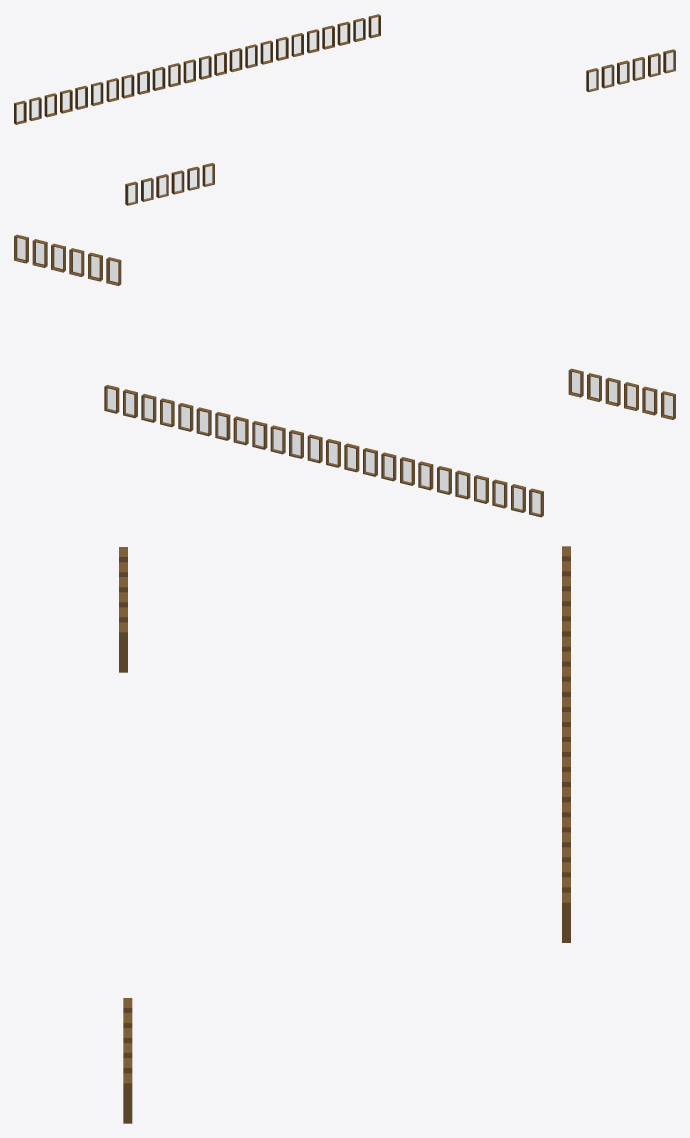
The model's file is insaat_revit_test_erisim.ifc.ifc.ifc_91.5 Kantin_IfcWindow.dae.
3 views of the same model, one above another, from view 1: azimuth 30°, elevation 25°; view 2: azimuth 150°, elevation 25°; view 3: azimuth 270°, elevation 25° (orthographic). The views are drawn at different scales.
Parts seen in each view (by area): view 1: 0nBXQoekD4jAcV3TBdMS78, 0nBXQoekD4jAcV3TBdMS23, 3VCE1vuc5BzQG99Zhek3yZ, 3VCE1vuc5BzQG99Zhek3ya, 3VCE1vuc5BzQG99Zhek3yw, 3VCE1vuc5BzQG99Zhek3yc; view 2: 3VCE1vuc5BzQG99Zhek3yb; view 3: no part large enough to name.
Boxes of the visible parts, <box> form: 0nBXQoekD4jAcV3TBdMS78: <box>601,64,614,88</box>; 0nBXQoekD4jAcV3TBdMS23: <box>171,170,184,194</box>; 3VCE1vuc5BzQG99Zhek3yZ: <box>229,48,242,72</box>; 3VCE1vuc5BzQG99Zhek3ya: <box>121,74,134,98</box>; 3VCE1vuc5BzQG99Zhek3yw: <box>337,21,350,45</box>; 3VCE1vuc5BzQG99Zhek3yc: <box>152,67,165,90</box>; 3VCE1vuc5BzQG99Zhek3yb: <box>381,452,396,481</box>.
Bounding box in the file's own units: 42.79 × 15.23 × 1.5.
